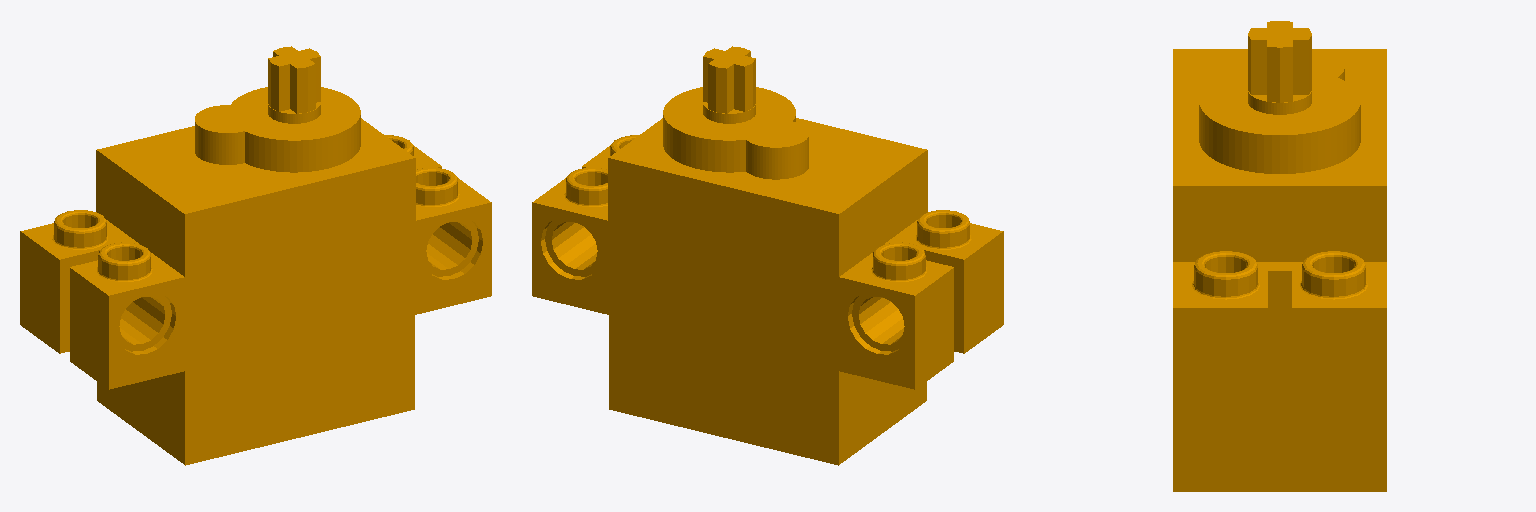
URDF robot description (motor_1_L0.88_T0.86):
<?xml version="1.0" encoding="utf-8"?>
<robot name="motor_1_L0.88_T0.86">
  <link name="motor_1_L0.88_T0.86Link">
    <contact>
      <lateral_friction value="1"/>
    </contact>
    <inertial>
      <origin rpy="0 0 0" xyz="0 0 0"/>
      <mass value="0.0"/>
      <inertia ixx="0" ixy="0" ixz="0" iyy="0" iyz="0" izz="0"/>
    </inertial>
    <visual>
      <origin rpy="0 0 0" xyz="0 0 0"/>
      <geometry>
        <mesh filename="generated_stl/motor/motor_1/motor_1_L0.88_T0.86/motor_1_L0.88_T0.86.stl" scale="0.01 0.01 0.01"/>
      </geometry>
    </visual>
    <collision>
      <origin rpy="0 0 0" xyz="0 0 0"/>
      <geometry>
        <mesh filename="generated_stl/motor/motor_1/motor_1_L0.88_T0.86/motor_1_L0.88_T0.86.stl" scale="0.01 0.01 0.01"/>
      </geometry>
    </collision>
  </link>
</robot>

--- What the picture shows (computed from the rendered views, not written in the file) ---
3 views of the same robot in one strip: view 1: azimuth 30°, elevation 25°; view 2: azimuth 150°, elevation 25°; view 3: azimuth 270°, elevation 25° (orthographic).
Robot: motor_1_L0.88_T0.86 — 1 links, 0 joints (none); root link motor_1_L0.88_T0.86Link; default pose: every joint at zero.
Links seen in each view (by area): view 1: motor_1_L0.88_T0.86Link; view 2: motor_1_L0.88_T0.86Link; view 3: motor_1_L0.88_T0.86Link.
Boxes of the visible links, x1,y1,x2,y2 form: motor_1_L0.88_T0.86Link: (20,46,491,465); motor_1_L0.88_T0.86Link: (532,46,1003,465); motor_1_L0.88_T0.86Link: (1173,21,1386,491).
Bounding box of the posed robot: 0.044 × 0.0176 × 0.0372 m (x, y, z).
Meshes: 1 distinct files referenced, 1 mesh visuals loaded (1 binary STL).